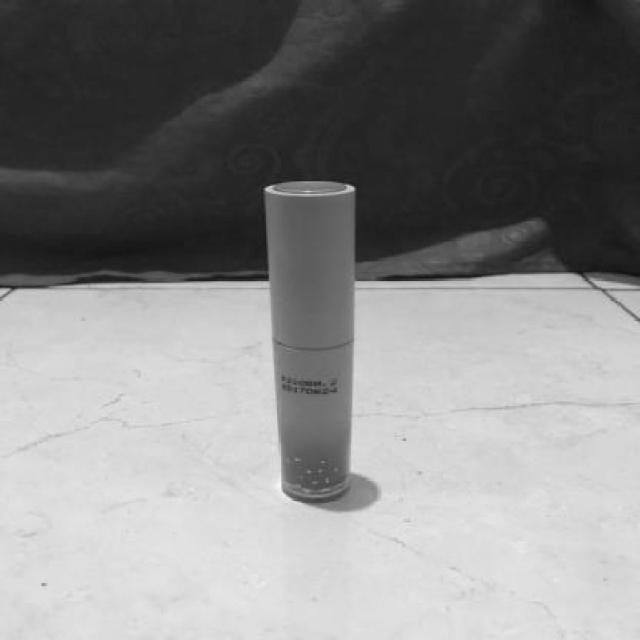lipstick: (205, 158, 460, 553)
